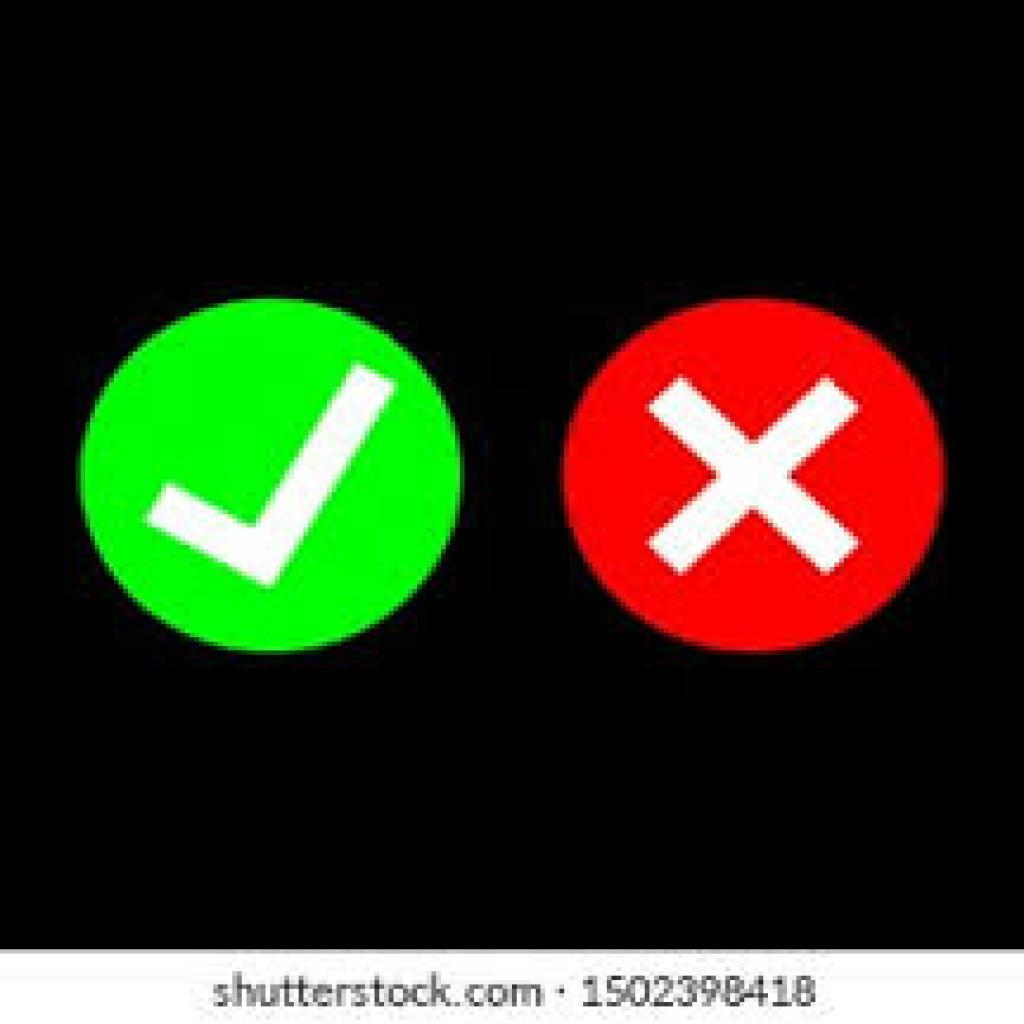checkbox: (71, 300, 467, 661), (563, 299, 944, 654)
